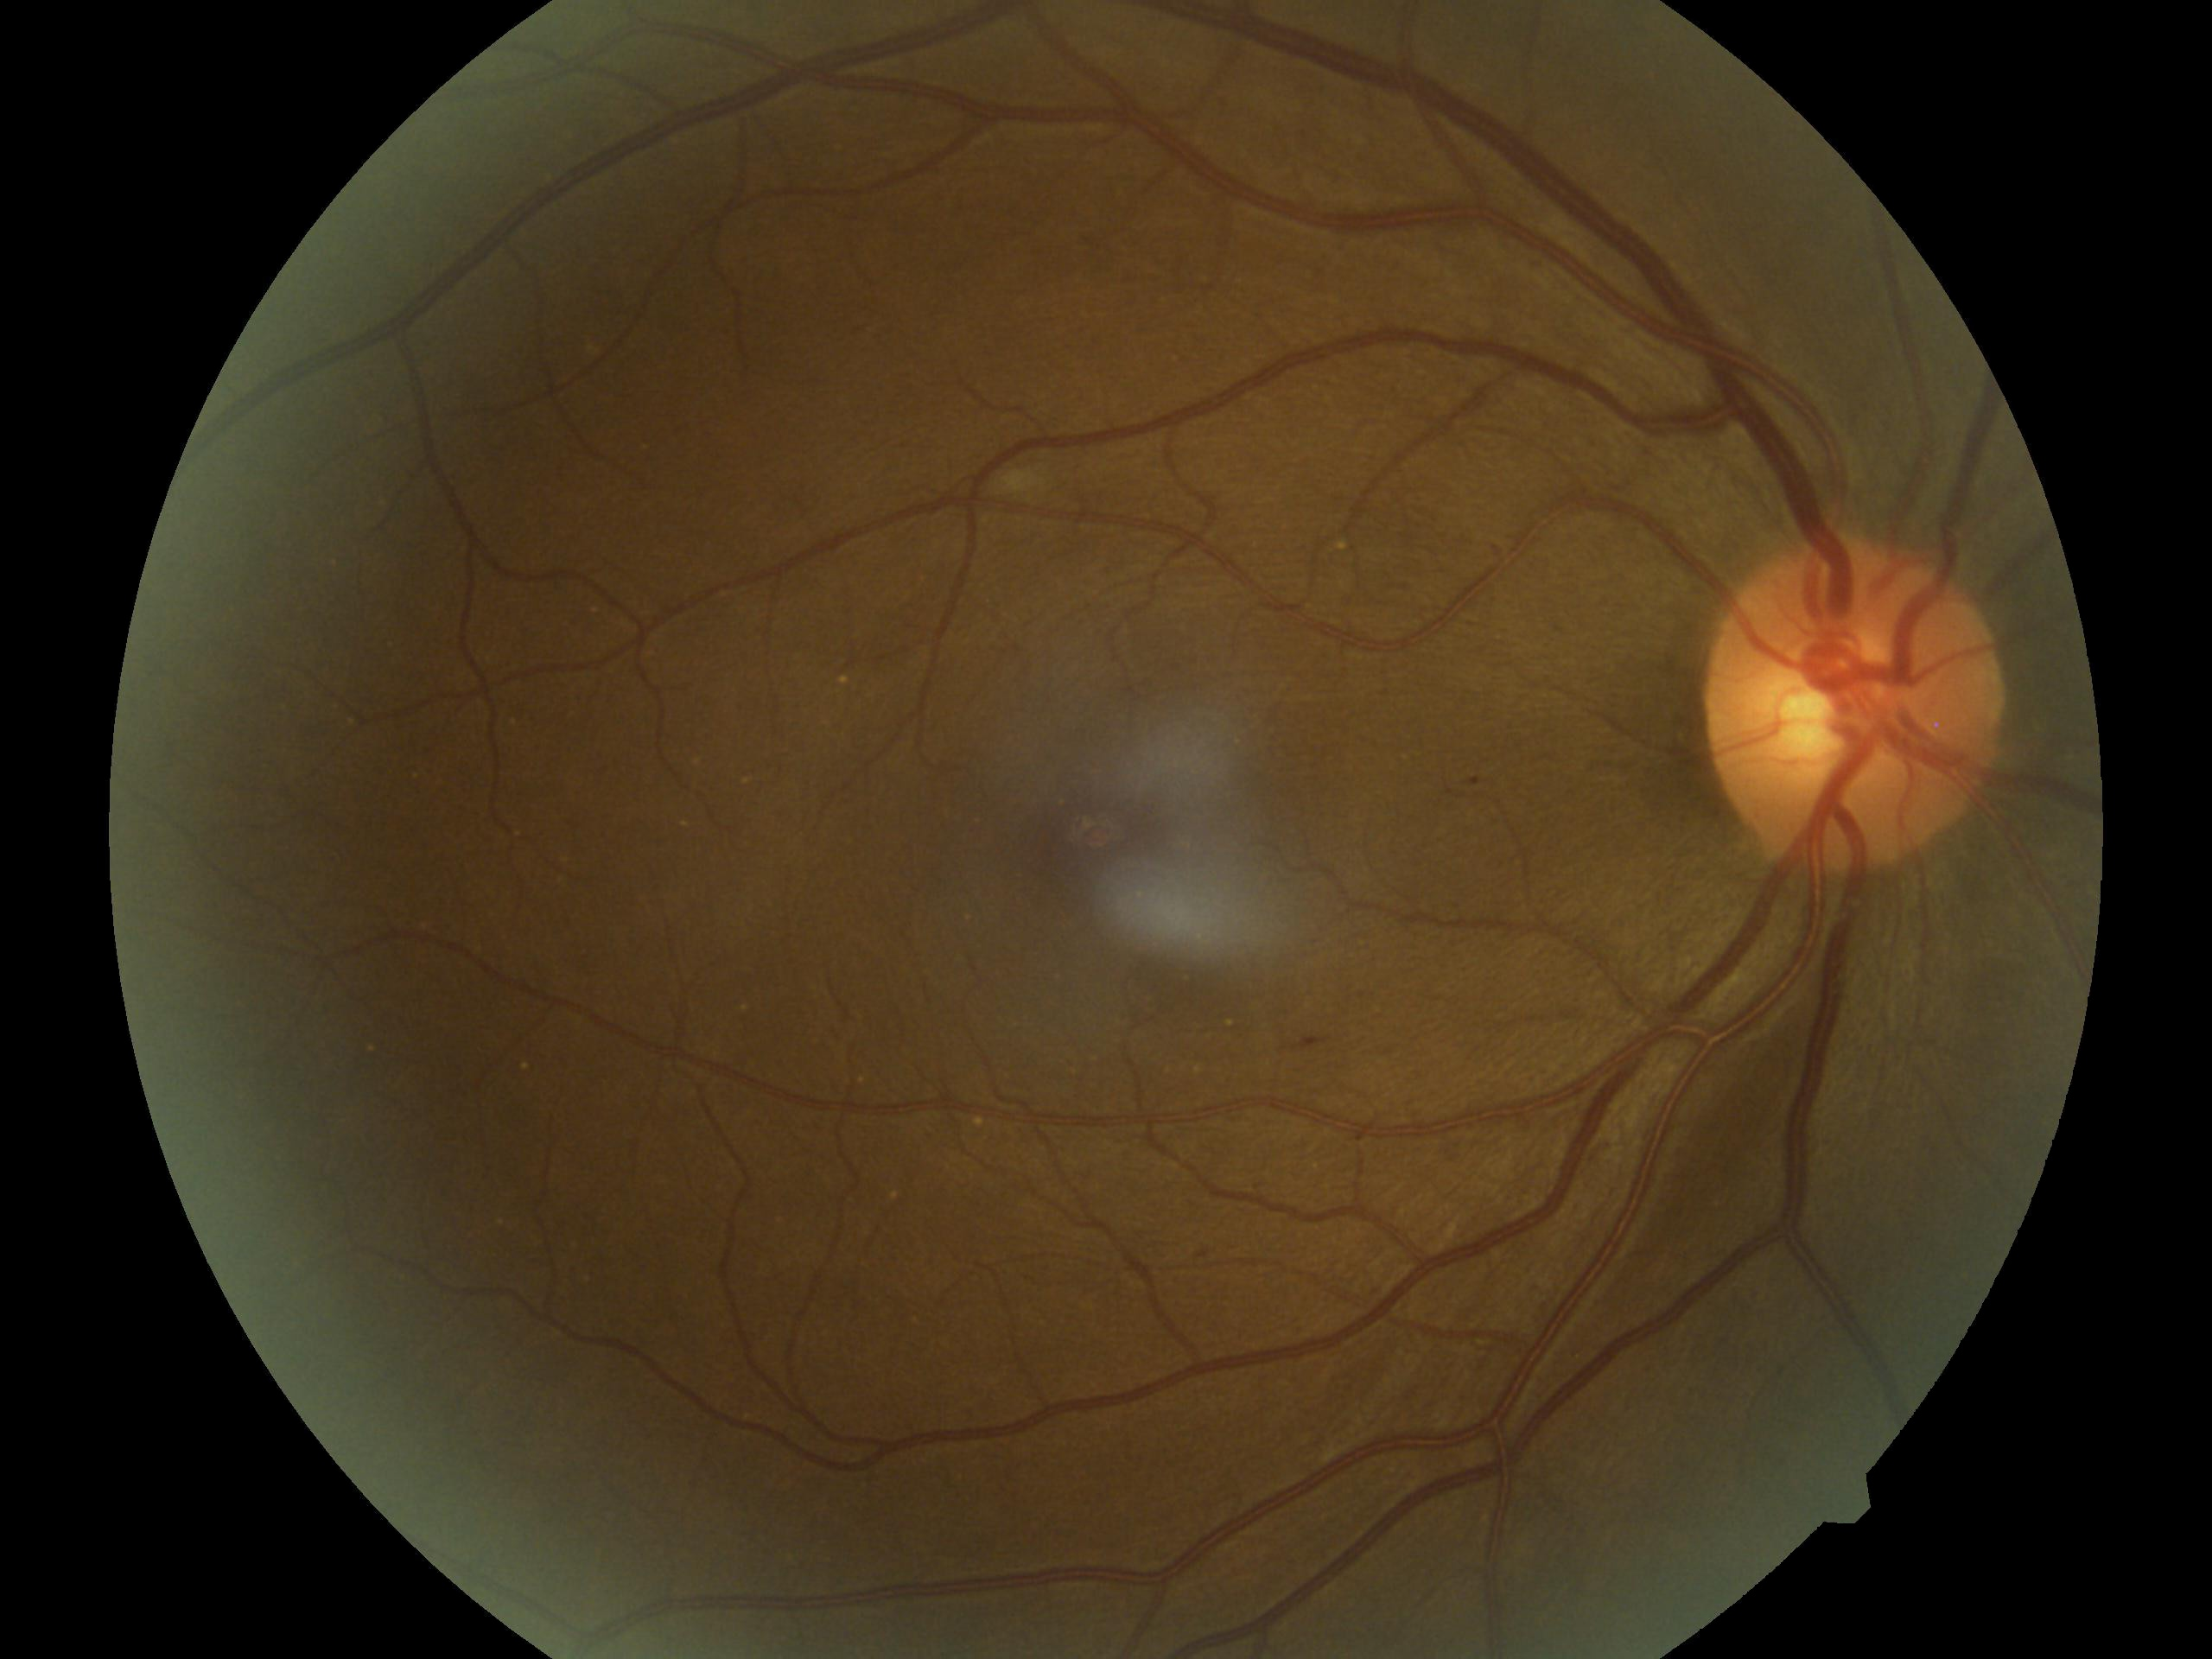Fovea: (998, 739, 1200, 948)
OD: (1684, 530, 2038, 877)
